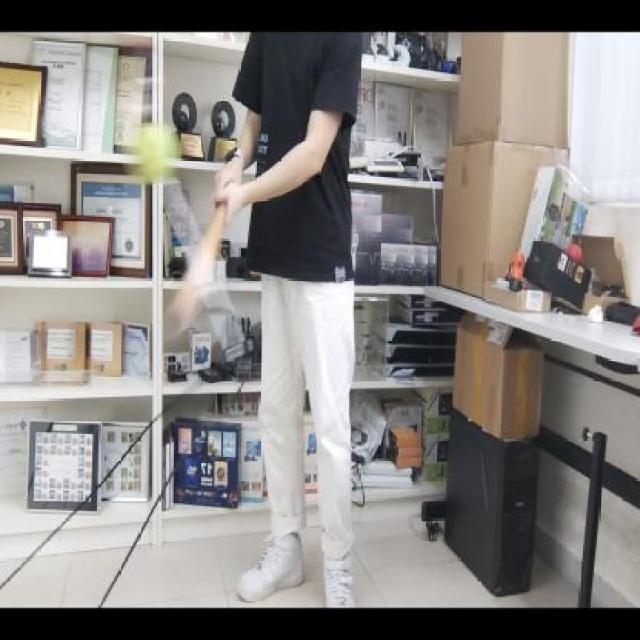baseball: (132, 122, 180, 184)
